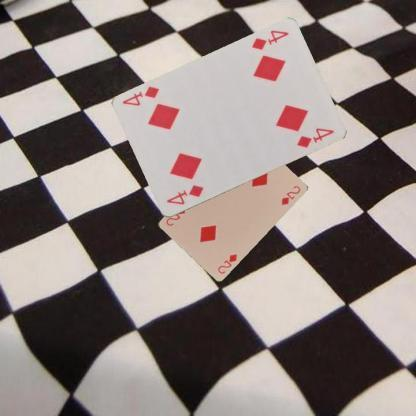2d: (215, 252, 238, 274)
4d: (164, 182, 206, 207), (248, 28, 290, 52)
